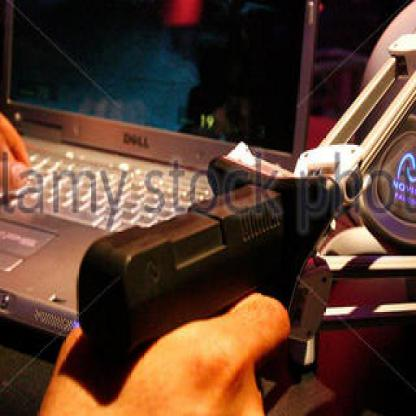gun: (74, 133, 324, 414)
